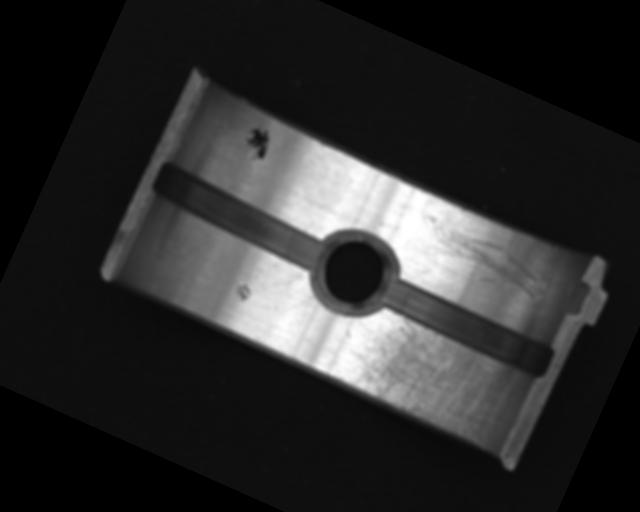blot: (237, 120, 276, 164)
bruise: (229, 279, 255, 306)
gap: (144, 161, 334, 275), (374, 271, 559, 383)
hole: (299, 216, 410, 326)
nick: (408, 210, 549, 305), (278, 284, 316, 324)
scratch: (323, 295, 530, 454)
